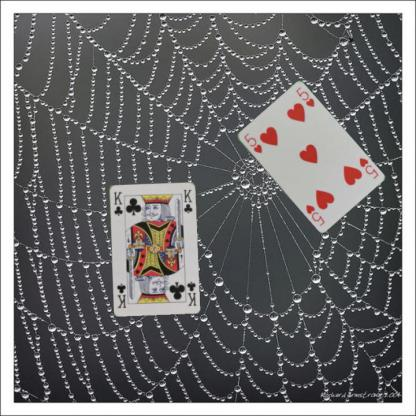5h: (356, 156, 379, 180), (241, 131, 263, 154)
Kc: (111, 189, 124, 217), (184, 279, 197, 307)
